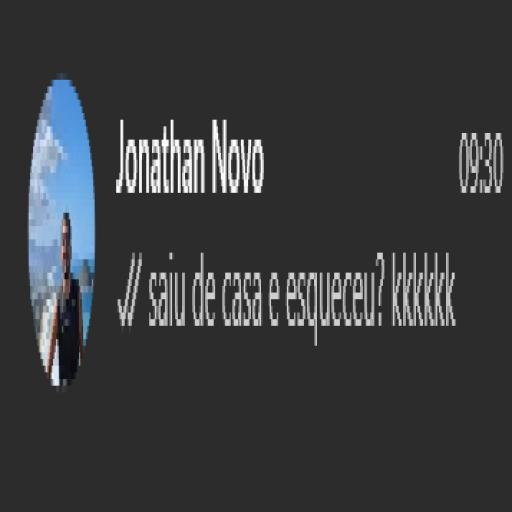chat: (1, 0, 511, 505)
